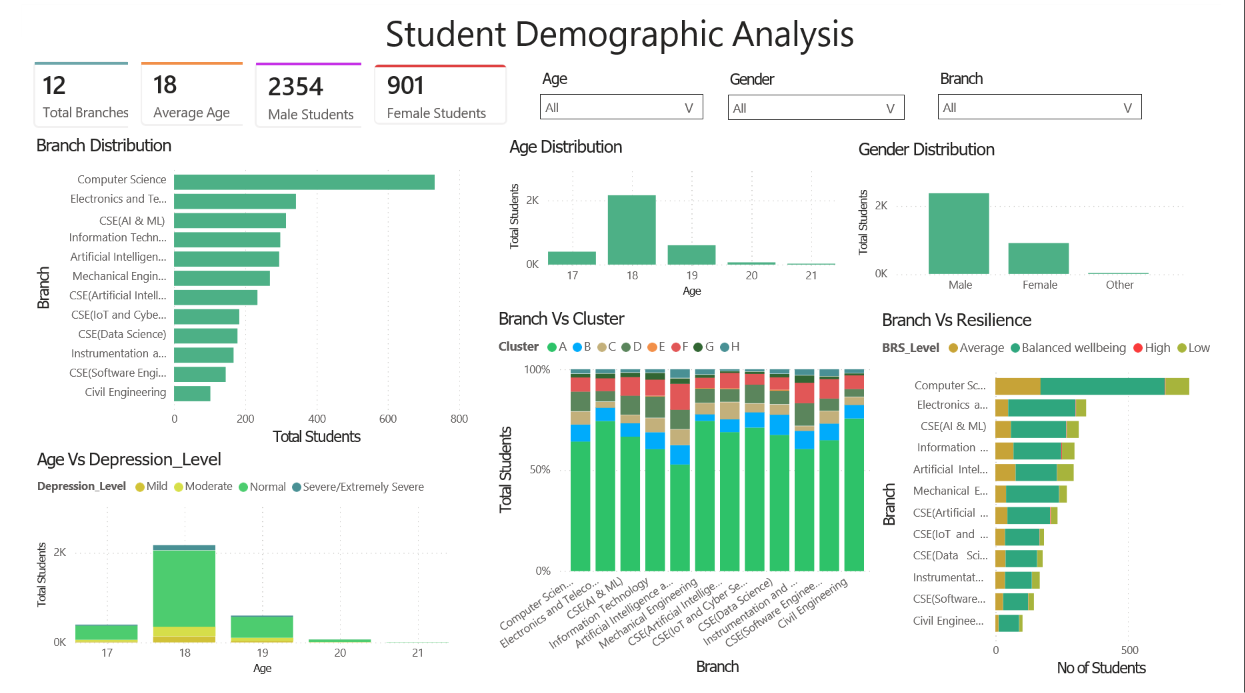

The dashboard page shown, as its layout file describes it:
{"tool":"powerbi","page":{"name":"Demographic Analysis","canvas":[1280,720],"ordinal":1},"visuals":[{"type":"cardVisual","fields":{"Data":["processing.Total Branches"]},"box":[0,46.9,160.5,96.9],"z":0},{"type":"clusteredBarChart","title":"Branch Distribution","fields":{"Category":["processing.Branch"],"Y":["processing.Total Students"]},"box":[11.3,140.8,471.1,333.5],"z":1000},{"type":"cardVisual","fields":{"Data":["processing.Average Age"]},"box":[113.6,46.9,159,95.4],"z":2000},{"type":"clusteredColumnChart","title":"Age Distribution","fields":{"Category":["processing.Age"],"Y":["processing.Total Students"]},"box":[516.3,141.8,356.6,174.9],"z":3000},{"type":"hundredPercentStackedColumnChart","title":"Branch Vs Cluster","fields":{"Category":["processing.Branch"],"Y":["processing.Total Students"],"Series":["processing.Cluster"]},"box":[503.8,326.2,411.2,393.8],"z":4000},{"type":"columnChart","title":"Age Vs Depression_Level","fields":{"Y":["processing.Total Students"],"Series":["processing.Depression_Level"],"Category":["processing.Age"]},"box":[11.9,476,448.6,243.9],"z":5000},{"type":"cardVisual","fields":{"Data":["processing.Male Students"]},"box":[236.2,48.5,159,95.4],"z":6000},{"type":"cardVisual","fields":{"Data":["processing.Female Students"]},"box":[363.4,50,168.1,90.9],"z":7000},{"type":"textbox","box":[113,0,1054.3,60.7],"z":8000},{"type":"barChart","title":"Branch Vs Resilience","fields":{"Category":["processing.Branch"],"Series":["processing.BRS_Level"],"Y":["processing.No of Students"]},"box":[913.5,327.2,366.5,392.7],"z":9000},{"type":"slicer","fields":{"Values":["processing.Age"]},"box":[542.9,66.7,193.7,76.2],"z":10000},{"type":"slicer","fields":{"Values":["processing.Gender"]},"box":[742.9,68.3,209.5,66.7],"z":11000},{"type":"slicer","fields":{"Values":["processing.Branch"]},"box":[966.7,66.7,238.1,63.5],"z":12000},{"type":"clusteredColumnChart","title":"Gender Distribution","fields":{"Category":["processing.Gender"],"Y":["processing.Total Students"]},"box":[887.7,144.6,356.9,173.8],"z":13000}]}

Visuals, with their boxes in screenshot pixels (x1, y1, x2, y2), scaled from the page's 1280x720 canvas onto the 1245x693 screenshot:
cardVisual - processing.Total Branches: [0,45,156,138]
"Branch Distribution" clusteredBarChart: [11,136,469,457]
cardVisual - processing.Average Age: [110,45,265,137]
"Age Distribution" clusteredColumnChart: [502,136,849,305]
"Branch Vs Cluster" hundredPercentStackedColumnChart: [490,314,890,692]
"Age Vs Depression_Level" columnChart: [12,458,448,692]
cardVisual - processing.Male Students: [230,47,384,139]
cardVisual - processing.Female Students: [353,48,517,136]
textbox: [110,0,1135,58]
"Branch Vs Resilience" barChart: [889,315,1244,692]
slicer - processing.Age: [528,64,716,138]
slicer - processing.Gender: [723,66,926,130]
slicer - processing.Branch: [940,64,1172,125]
"Gender Distribution" clusteredColumnChart: [863,139,1211,306]
